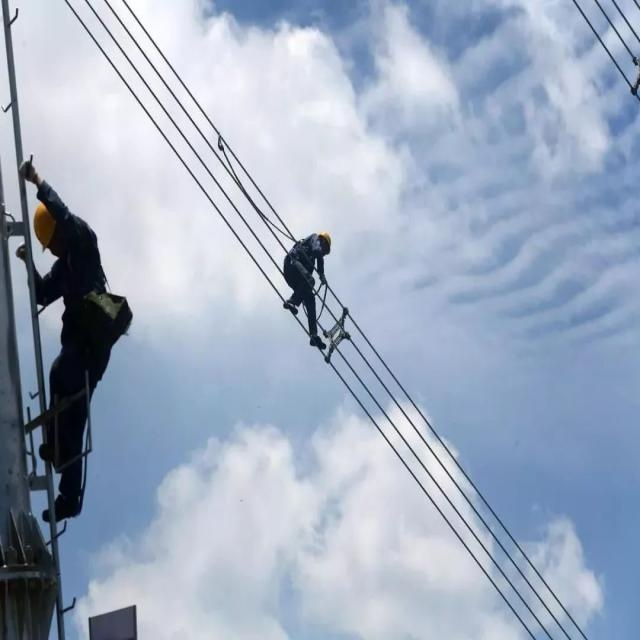Con_Casco: (34, 201, 59, 256), (318, 229, 334, 254)
